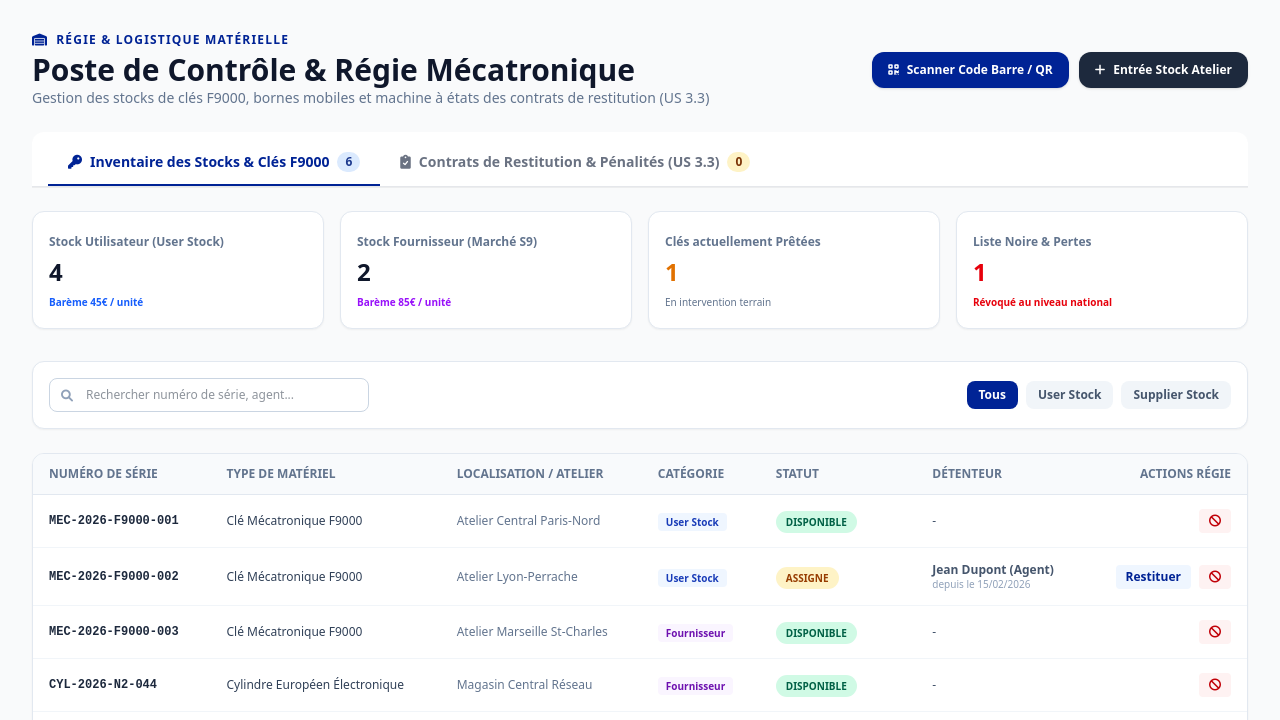
Test: User Story 4.2: Regie & Control Room Component › filters hardware inventory by search term
This screenshot has width=1280, height=720.
Type "MOBI-12" into the field with placeholder "Rechercher numéro de série, agent..." at (209, 395), box [49, 378, 369, 412]
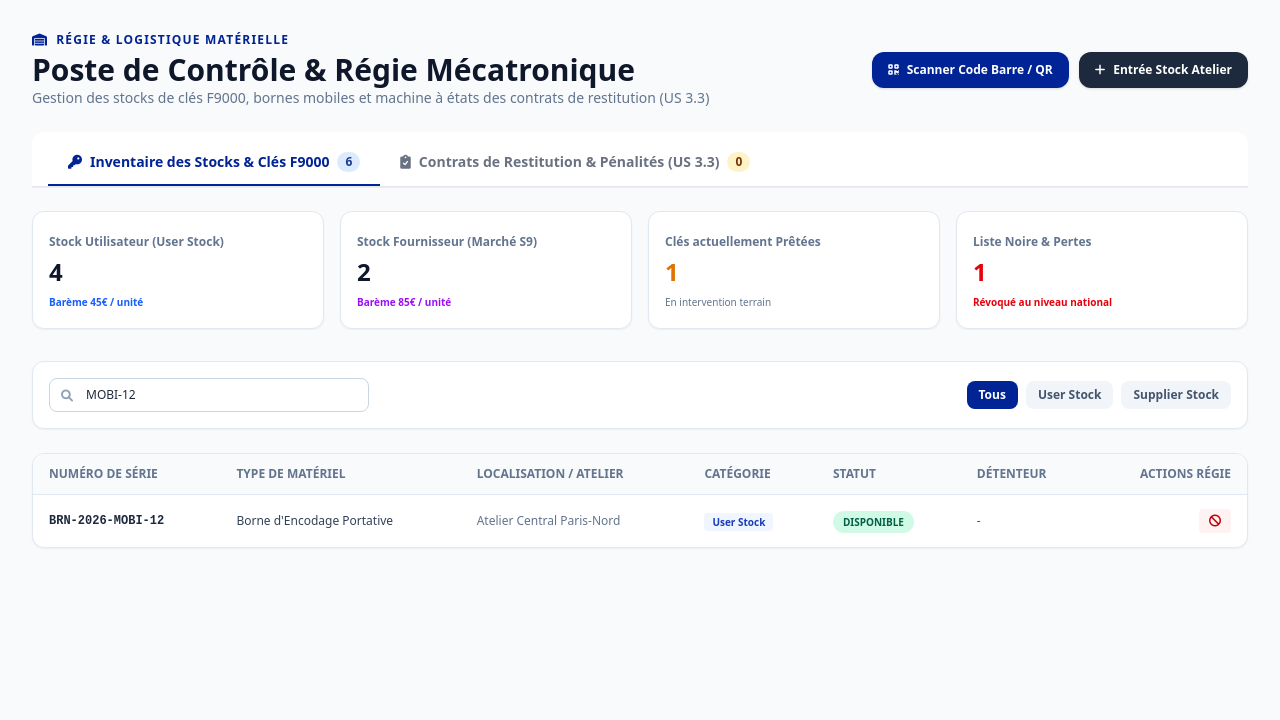
Expected: the text "BRN-2026-MOBI-12" is shown, [33, 494, 220, 547]
Expected: the text "MEC-2026-F9000-001" is gone
